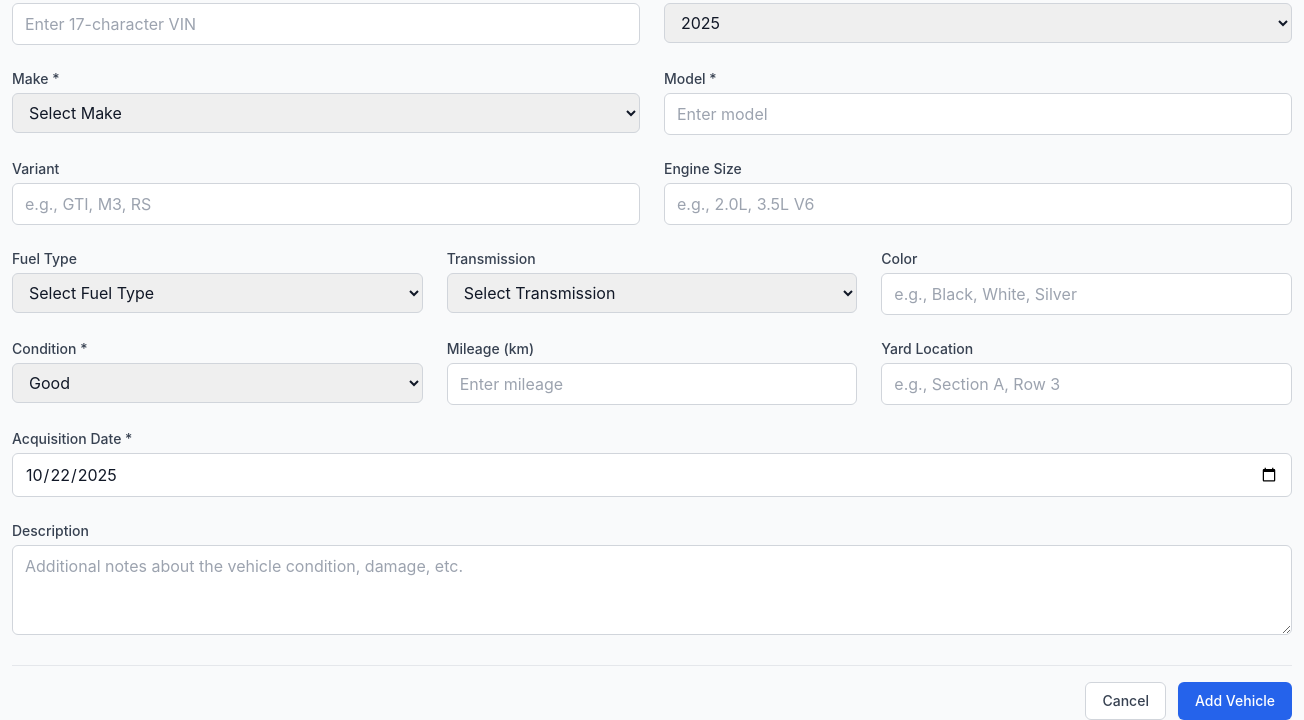
it: VehicleForm › Form Validation › shows error when VIN is empty
The image size is (1304, 720).
(page scrolled)
What coordinates should you click on to do the following:
click the button "Add Vehicle"
I would click on:
 (1235, 701)
Its box is [1178,682,1292,719].
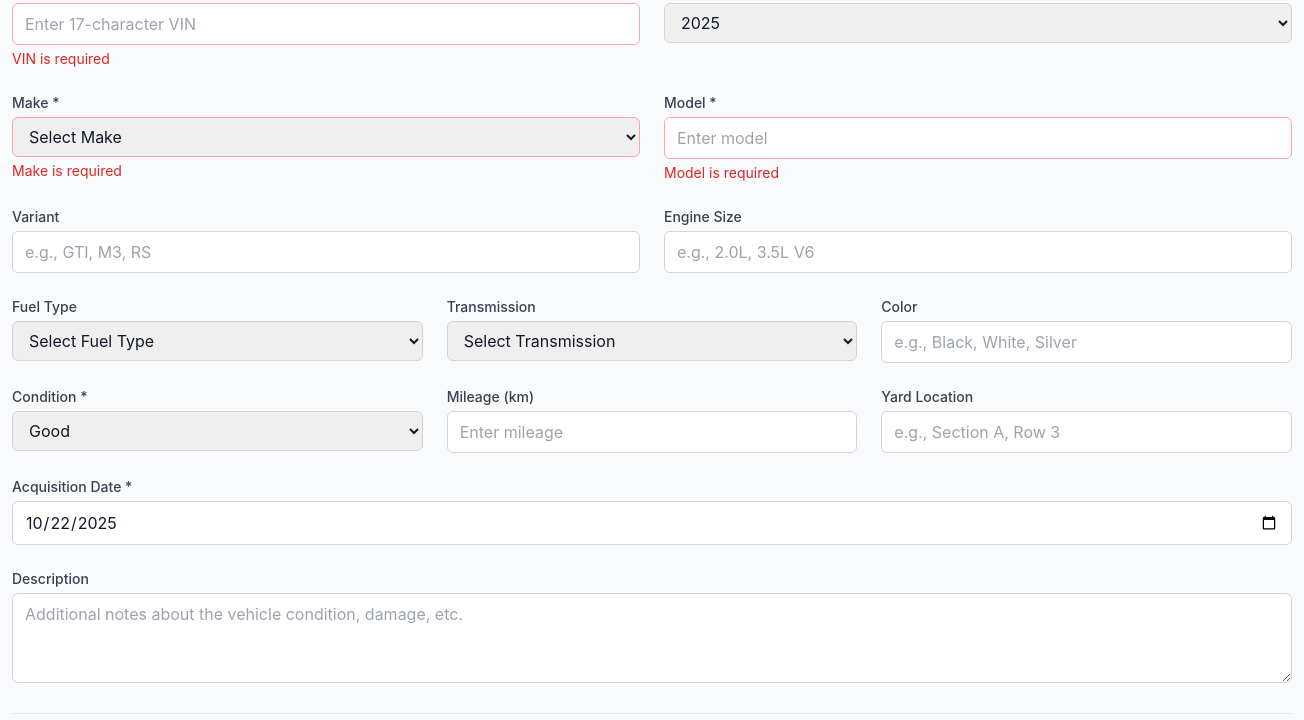
Check: the text "VIN is required" is shown, box [12,50,110,67]
